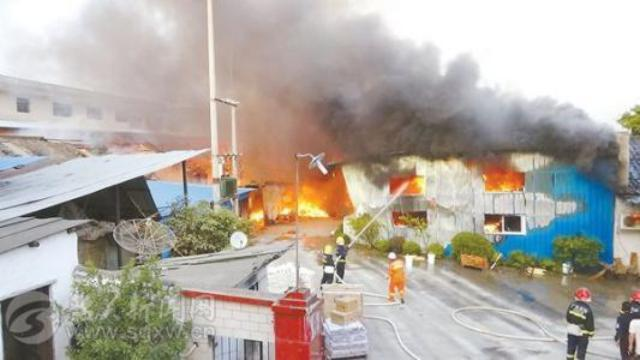fire: (280, 183, 332, 217), (484, 166, 522, 188), (390, 172, 420, 192), (245, 204, 265, 224), (481, 218, 497, 230)
